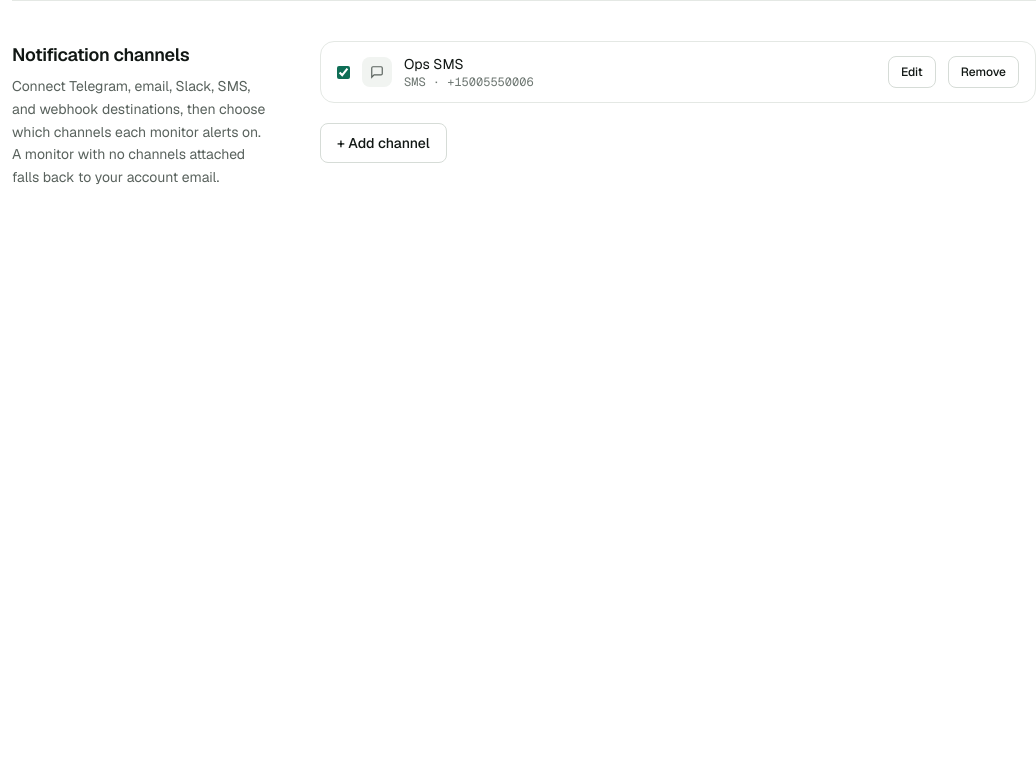
Test: NotificationChannelsCard › still shows sms as an option when editing an existing sms channel on the Hobby plan (e.g. after a downgrade)
Click the button "Edit" at (912, 72), box [888,56,936,88]
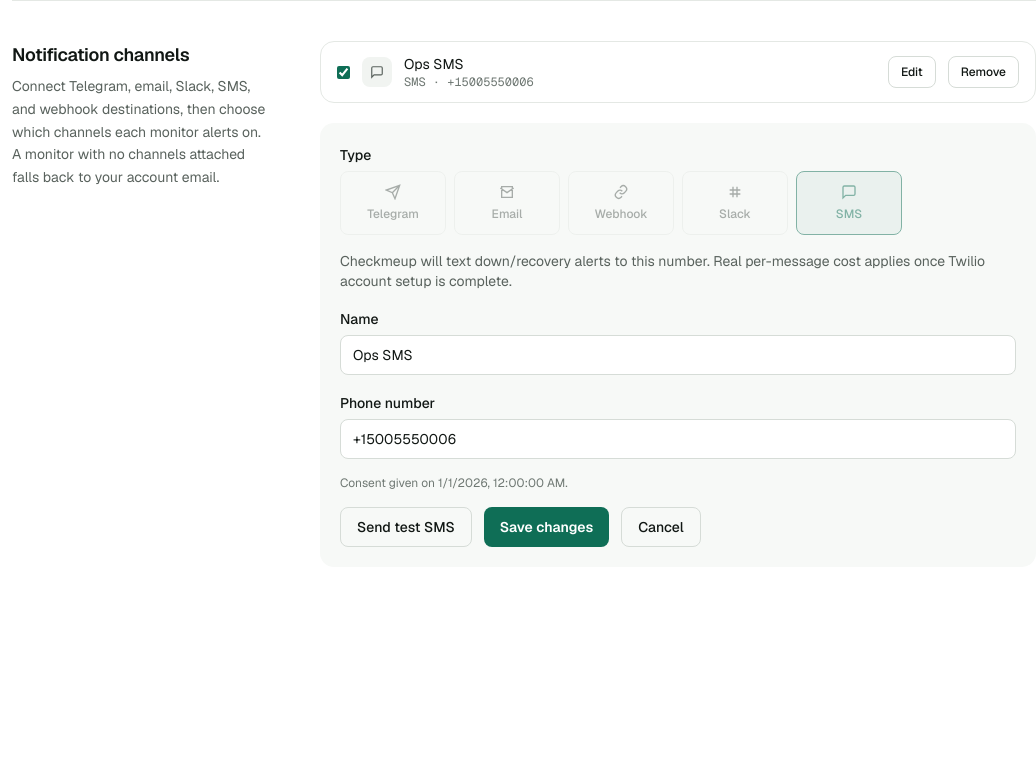
expect the text "SMS" is shown: met, box [12,77,265,186]
expect the button with test id "channel-type-option" reads "SMS": met, box [796,171,902,235]
